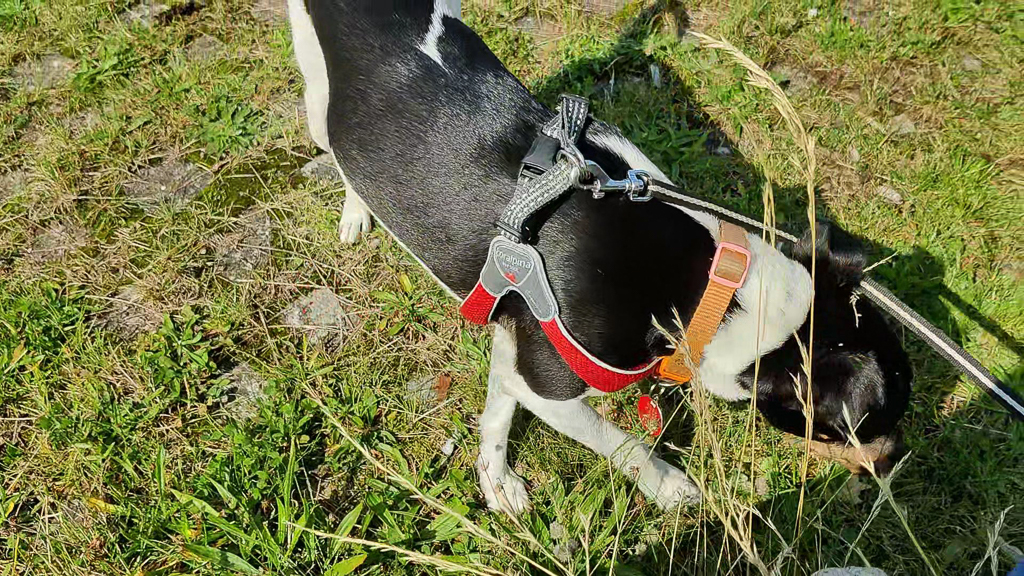Dog: (263, 0, 941, 536)
